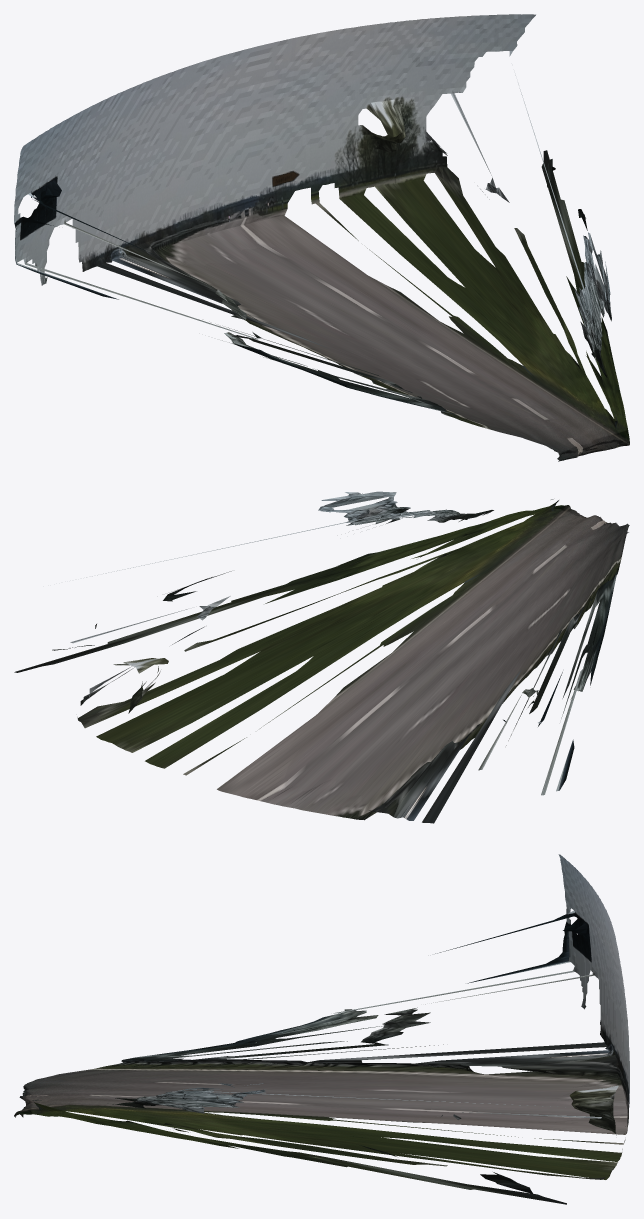
The picture shows the model from 3 angles, top to bottom: view 1: azimuth 30°, elevation 25°; view 2: azimuth 150°, elevation 25°; view 3: azimuth 270°, elevation 25°; orthographic projection. The views are drawn at different scales.
Visible parts, largest first — view 1: defaultobject; view 2: defaultobject; view 3: defaultobject.
Part boxes in pixels (x1,y1,x2,y2): defaultobject: (14, 14, 629, 461); defaultobject: (14, 491, 629, 823); defaultobject: (14, 854, 629, 1204).
Bounding box in the file's own units: 39.77 × 13.07 × 44.65.
Materials: 1 (1 with a texture image).
